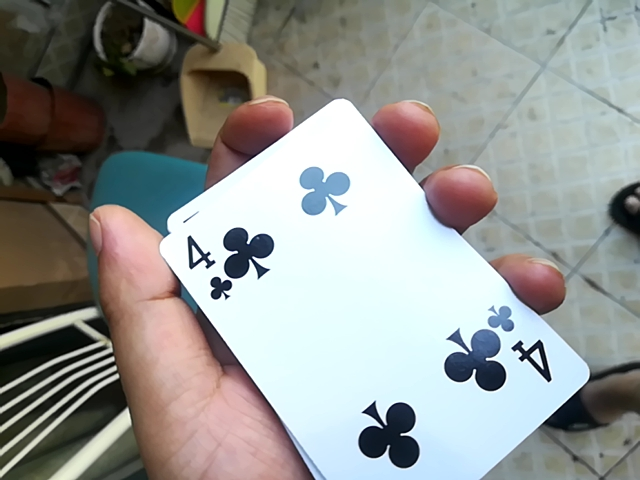mh 4: (156, 92, 586, 476)
